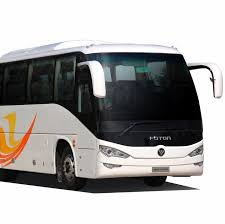bus: (3, 40, 204, 190)
